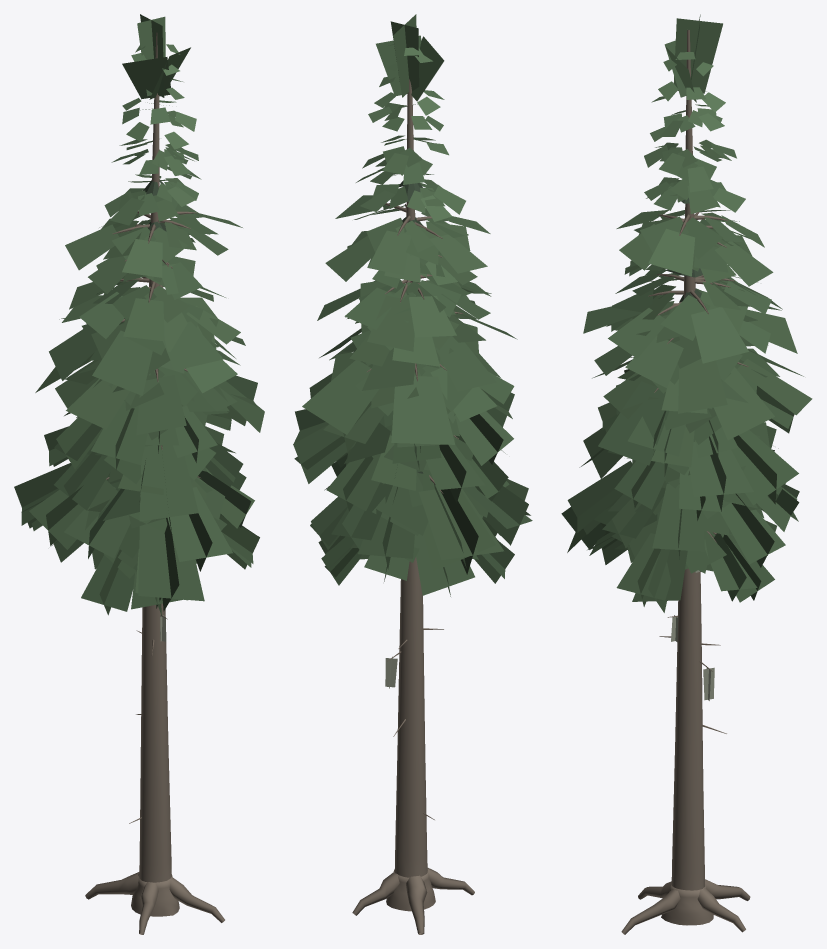
Rendered from fir_giant_moss.glb.
The picture shows the model from 3 angles, left to right: view 1: azimuth 30°, elevation 25°; view 2: azimuth 150°, elevation 25°; view 3: azimuth 270°, elevation 25°; orthographic projection.
Visible parts, largest first — view 1: fir_giant_moss; view 2: fir_giant_moss; view 3: fir_giant_moss.
Part boxes in pixels (left/top/right/bottom): fir_giant_moss: left=14, top=14, right=264, bottom=934; fir_giant_moss: left=293, top=14, right=532, bottom=934; fir_giant_moss: left=561, top=14, right=812, bottom=934.
Size of the model in its own units: 8.09 by 31.72 by 8.01.
